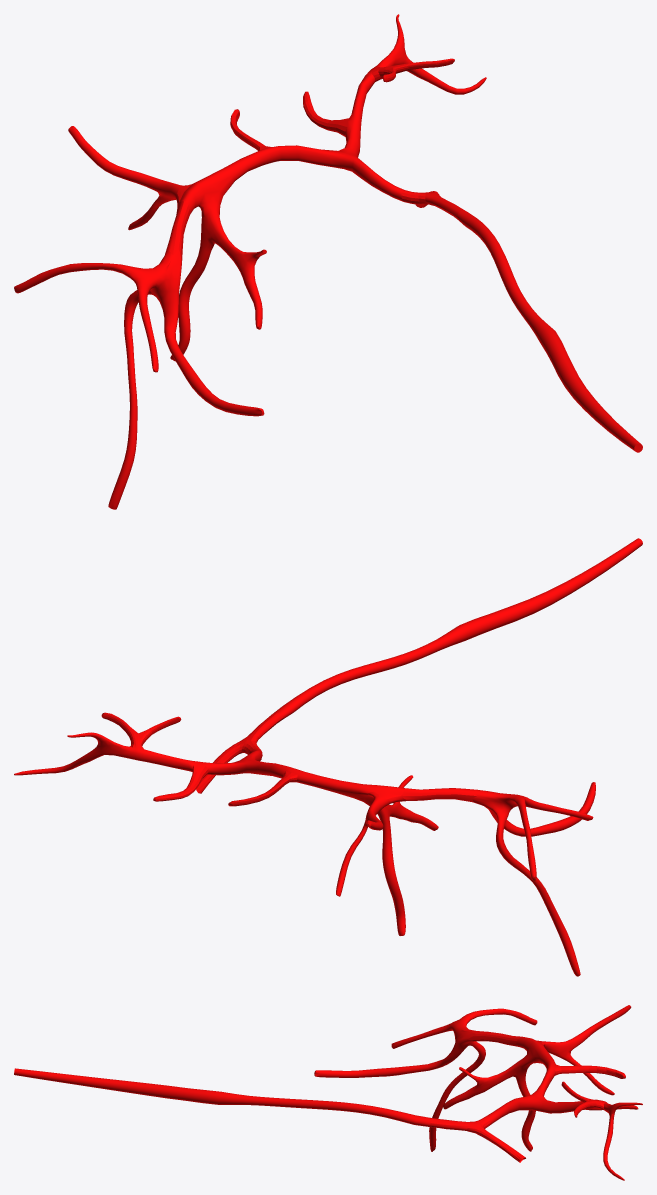
File: Hepatic_Artery.fbx
3 views of the same model, one above another, from view 1: azimuth 30°, elevation 25°; view 2: azimuth 150°, elevation 25°; view 3: azimuth 270°, elevation 25° (orthographic). The views are drawn at different scales.
Parts seen in each view (by area): view 1: Hepatic_Artery; view 2: Hepatic_Artery; view 3: Hepatic_Artery.
Part boxes in pixels (x1=…): Hepatic_Artery: x1=14, y1=14, x2=642, y2=509; Hepatic_Artery: x1=14, y1=538, x2=642, y2=976; Hepatic_Artery: x1=14, y1=1005, x2=642, y2=1180.
Size of the model in its own units: 171 by 85.63 by 249.
